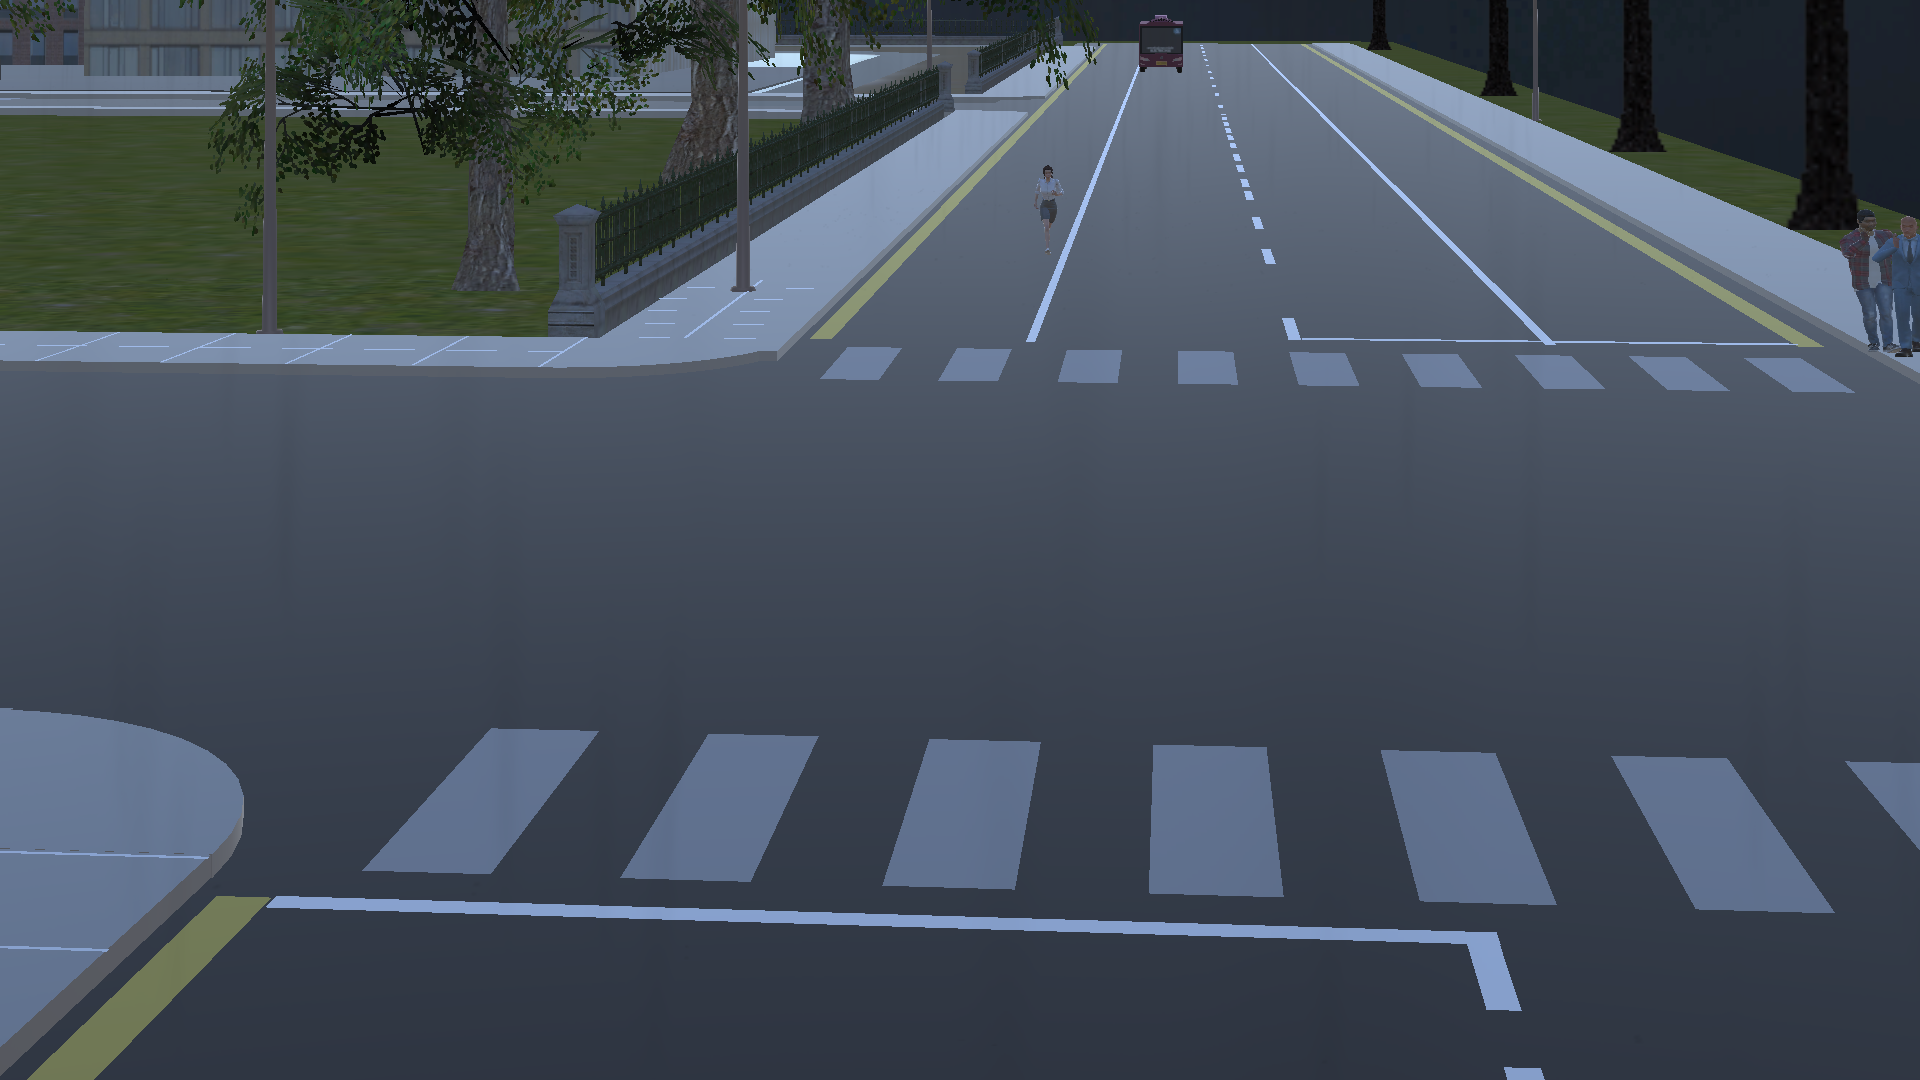pedestrian: (1844, 194, 1888, 360), (1882, 199, 1920, 362), (1024, 159, 1067, 241)
